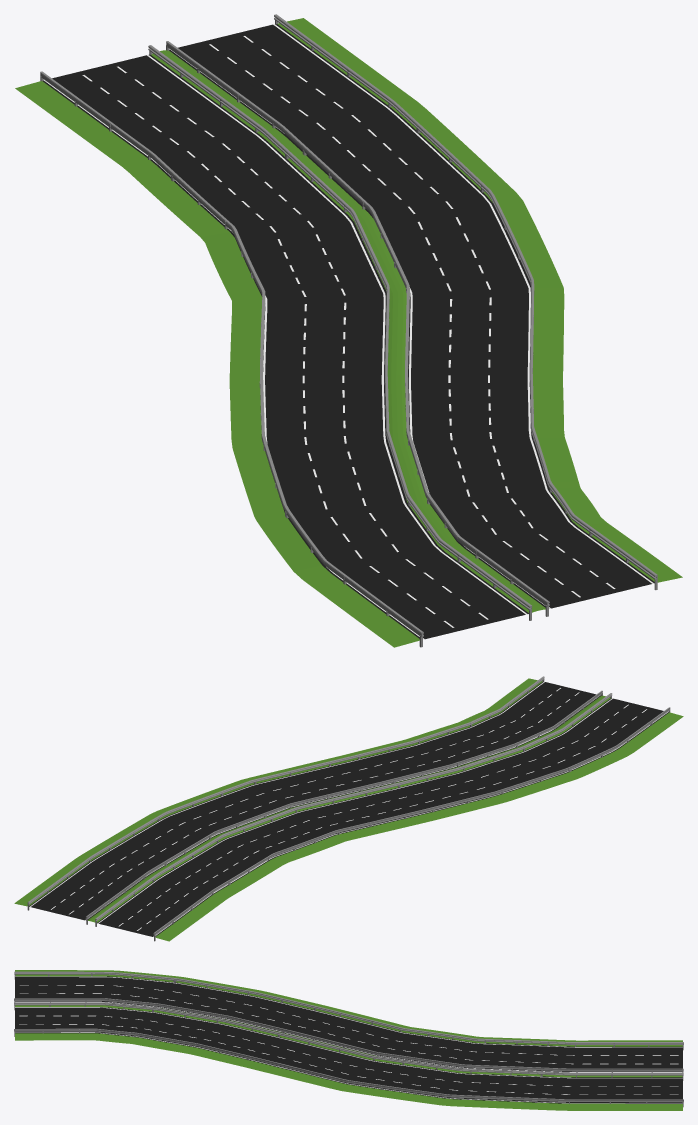
The model's file is street_Curve1_hway.fbx.
3 views of the same model, one above another, from view 1: azimuth 30°, elevation 25°; view 2: azimuth 150°, elevation 25°; view 3: azimuth 270°, elevation 25° (orthographic). The views are drawn at different scales.
Visible parts, largest first — view 1: street_curve1_hway; view 2: street_curve1_hway; view 3: street_curve1_hway.
Boxes of the visible parts, bbox=[...] form: street_curve1_hway: bbox=[15, 14, 682, 647]; street_curve1_hway: bbox=[14, 676, 683, 941]; street_curve1_hway: bbox=[14, 970, 683, 1110].
Size of the model in its own units: 6399 by 160 by 12864.
